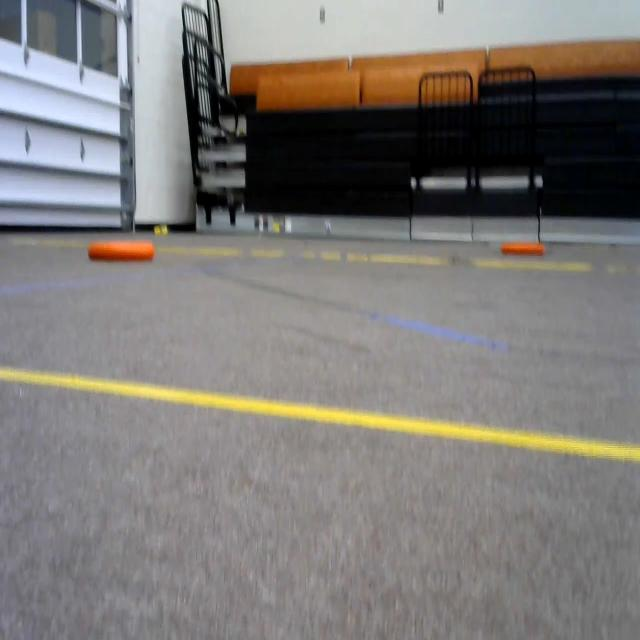note: (86, 233, 161, 268), (496, 241, 552, 257)
